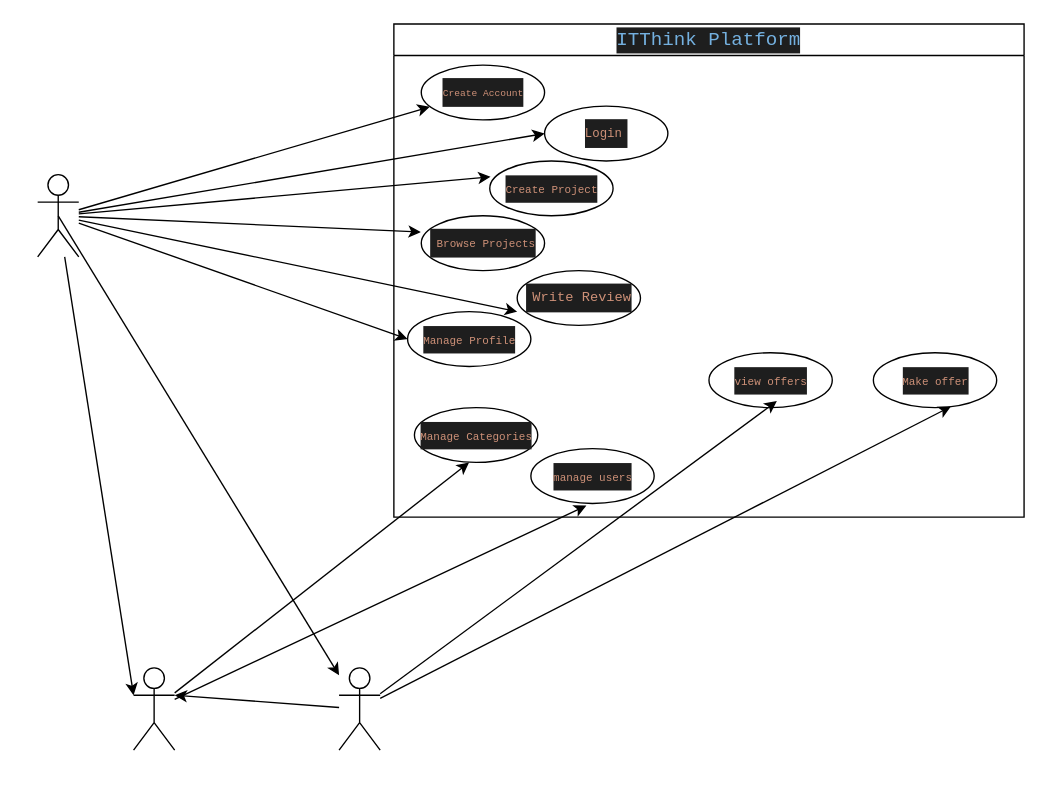
The diagram is 1048 pixels wide and 810 high, and some of its shapes have lost their labels. The centre of each missing label's shape, as x and y in pixels:
"(Admin)" goes at point (153, 708).
"(Freelancer)" goes at point (359, 708).
"(User)" goes at point (57, 215).
